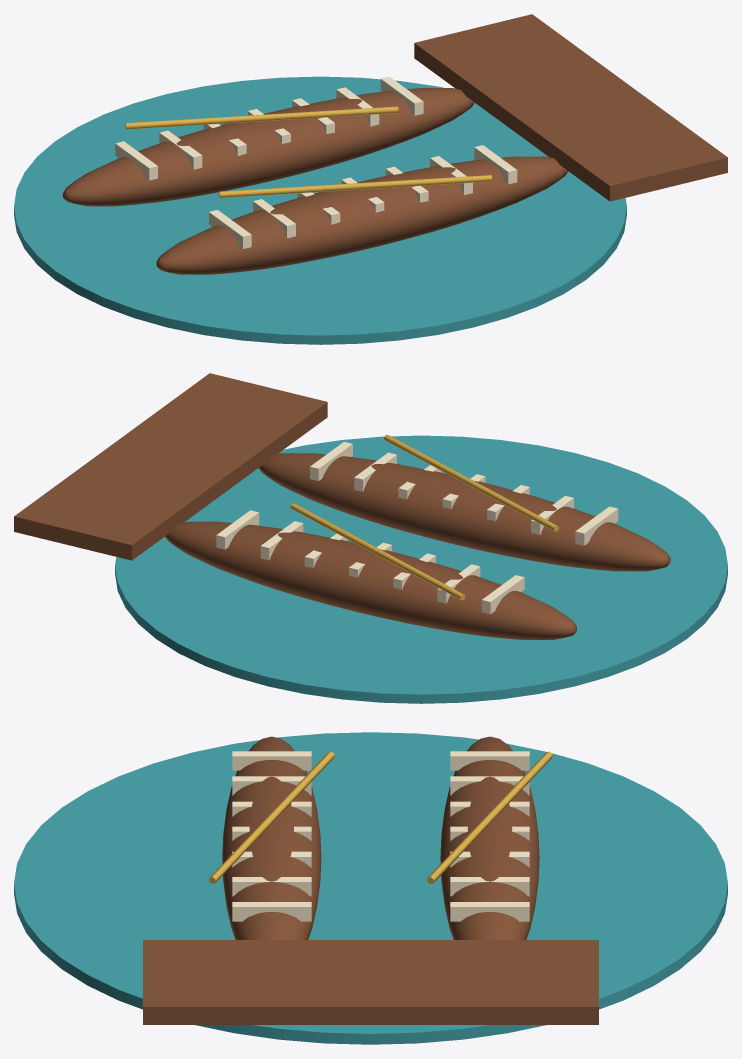
Rendered from canoe.glb.
3 renders of one model, top to bottom at view 1: azimuth 30°, elevation 25°; view 2: azimuth 150°, elevation 25°; view 3: azimuth 270°, elevation 25°, orthographic. The views are drawn at different scales.
Bounding box in the file's own units: 3.9 × 0.4198 × 3.6.
